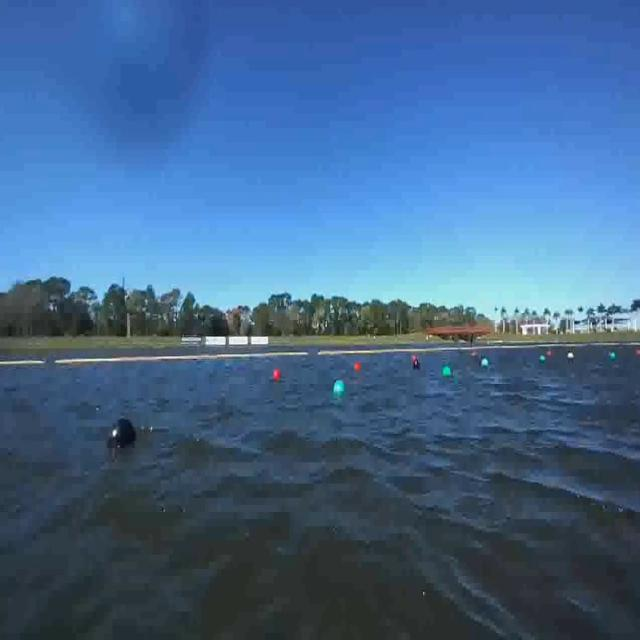black-buoy: (100, 405, 142, 452)
green-buoy: (334, 378, 347, 396), (444, 365, 452, 375)
red-buoy: (274, 368, 282, 380), (354, 362, 362, 371)
